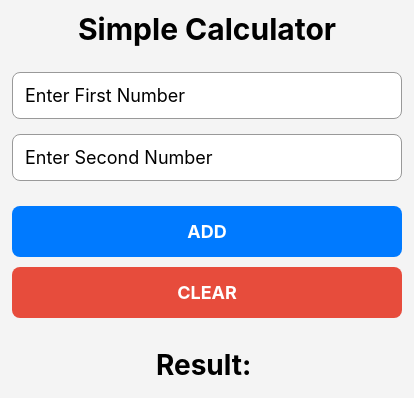
Scenario: Simple Calculator Integration Test › adds negative numbers
The width and height of the screenshot is (414, 398).
In the field with test id "input1": (207, 95) left=12, top=72, right=402, bottom=118, type "-5"
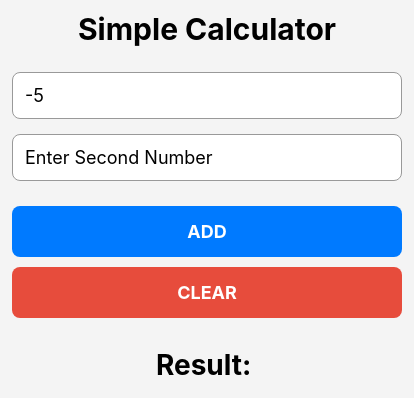
In the field with test id "input2": (207, 157) left=12, top=134, right=402, bottom=180, type "2"
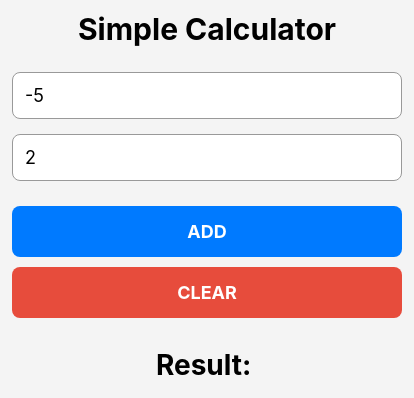
Click the element with test id "addButton": (207, 231) left=12, top=206, right=402, bottom=256
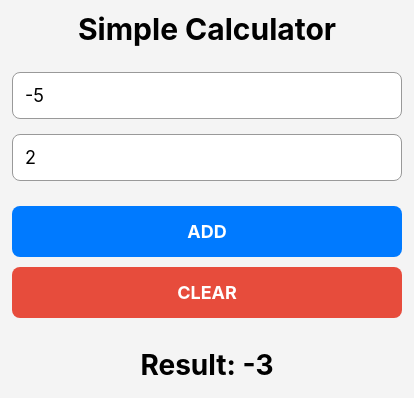
Check: the text with test id "resultText" reads "Result: -3", box left=140, top=348, right=274, bottom=382
